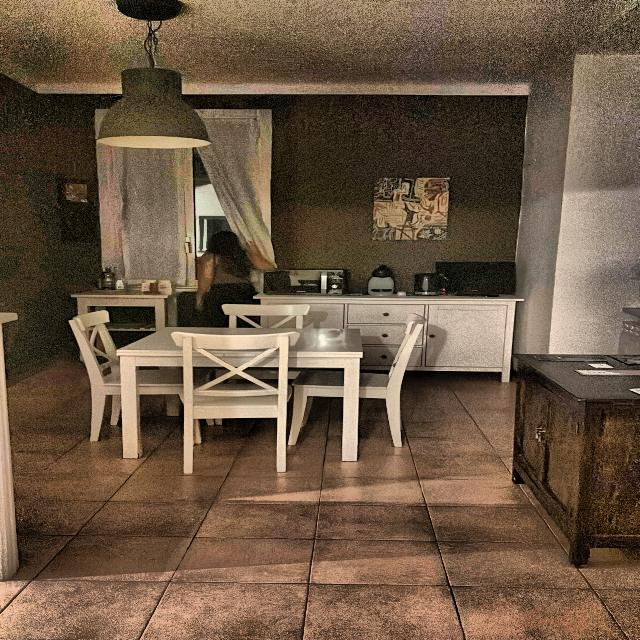cadeira: (168, 330, 312, 472), (362, 316, 446, 444)
